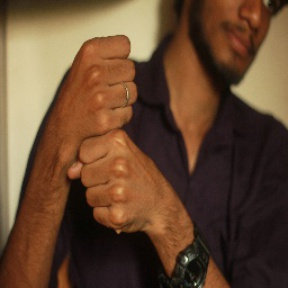G: (43, 29, 164, 237)
